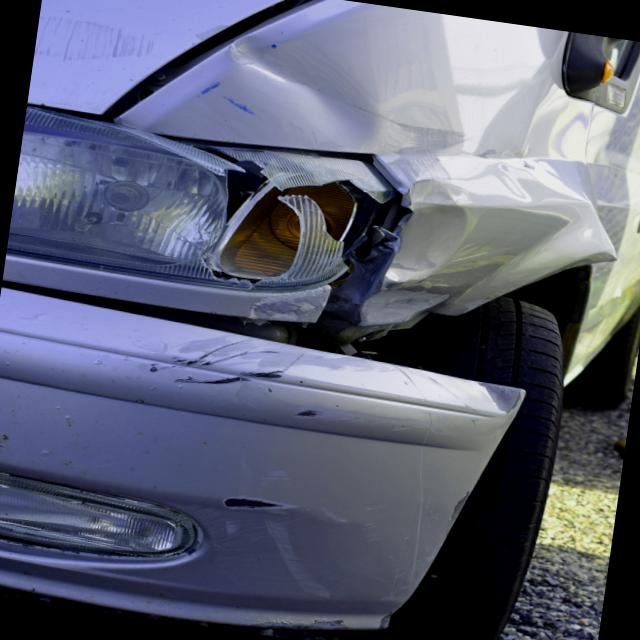Dechirure: (0, 263, 528, 432)
Phare abime: (184, 132, 393, 315)
Rayure: (138, 323, 308, 421), (198, 480, 291, 519)
